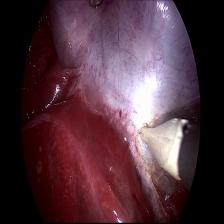Hook: (129, 113, 191, 185)
